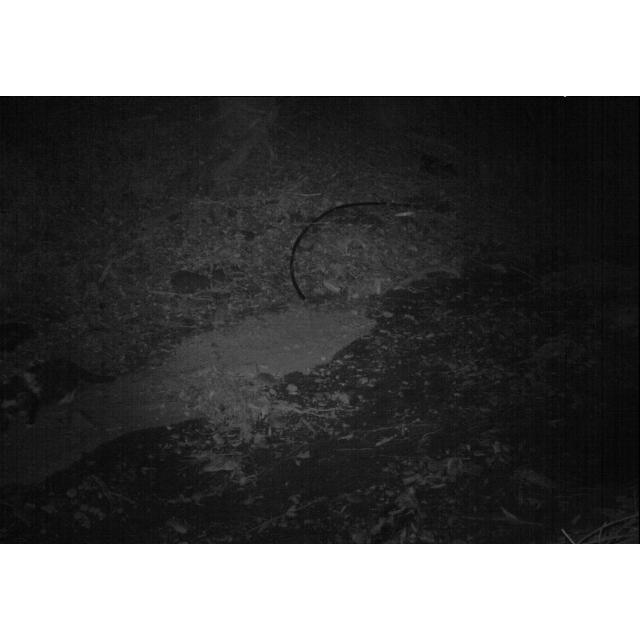animals: (3, 352, 119, 428)
